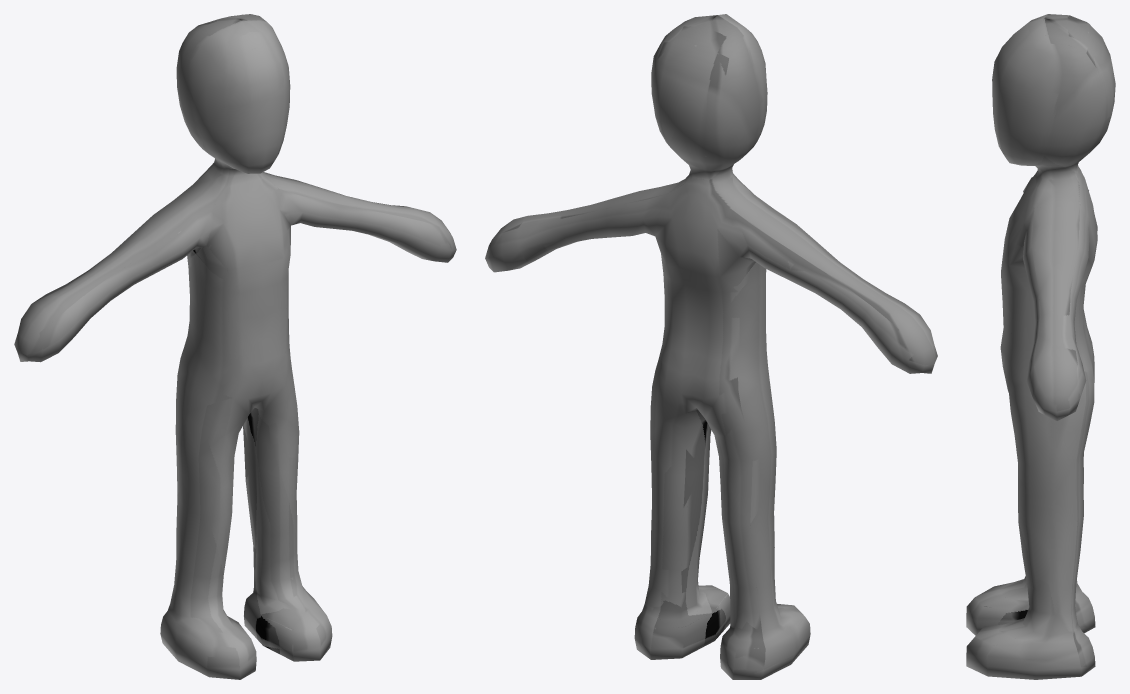
The model's file is mymodel.obj.
The picture shows the model from 3 angles, left to right: view 1: azimuth 30°, elevation 25°; view 2: azimuth 150°, elevation 25°; view 3: azimuth 270°, elevation 25°; orthographic projection. The views are drawn at different scales.
Parts seen in each view (by area): view 1: mymodel_Cube.003; view 2: mymodel_Cube.003; view 3: mymodel_Cube.003.
Boxes of the visible parts, x1,y1,x2,y2 form: mymodel_Cube.003: [14, 14, 456, 679]; mymodel_Cube.003: [485, 14, 937, 679]; mymodel_Cube.003: [966, 14, 1115, 679].
Size of the model in its own units: 0.1331 by 0.1816 by 0.0391.
